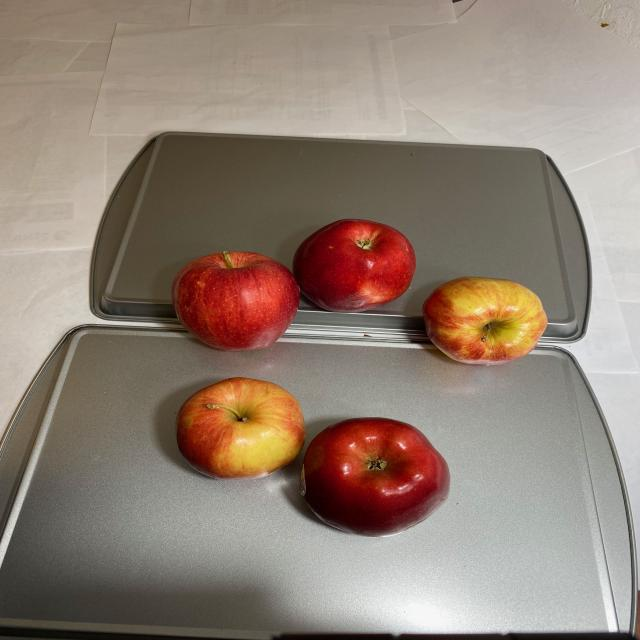Apple: (167, 217, 548, 366), (170, 380, 457, 536)
